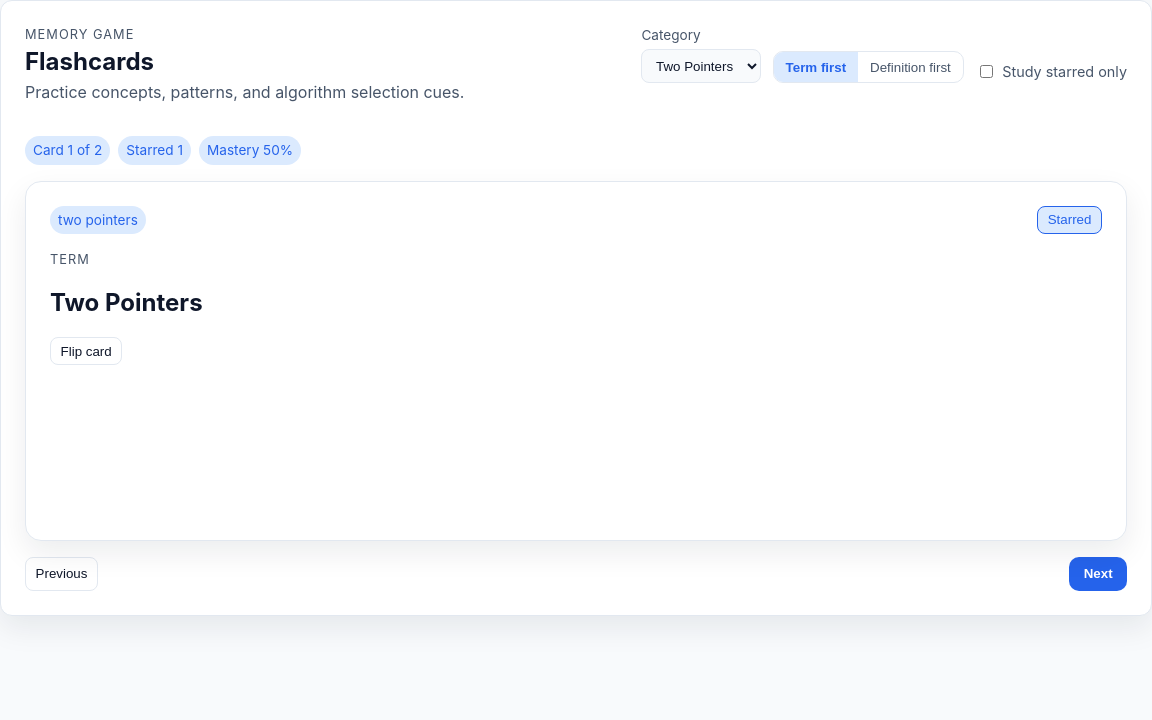
Test: FlashcardsPage › moves to the next card
Check: the heading "Two Pointers" is shown, box x1=50 y1=288 x2=203 y2=317
Click the button "Next" at {"x": 1098, "y": 574}, box x1=1069 y1=557 x2=1127 y2=591
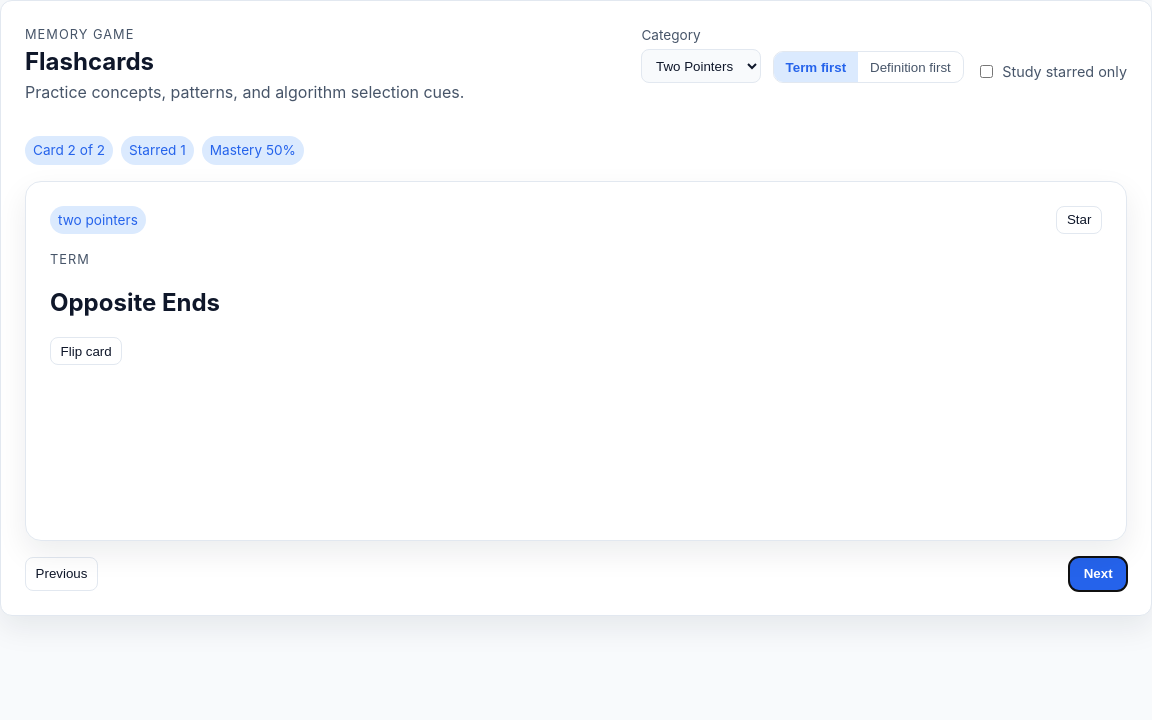
Check: the heading "Opposite Ends" is shown, box x1=50 y1=288 x2=220 y2=317
